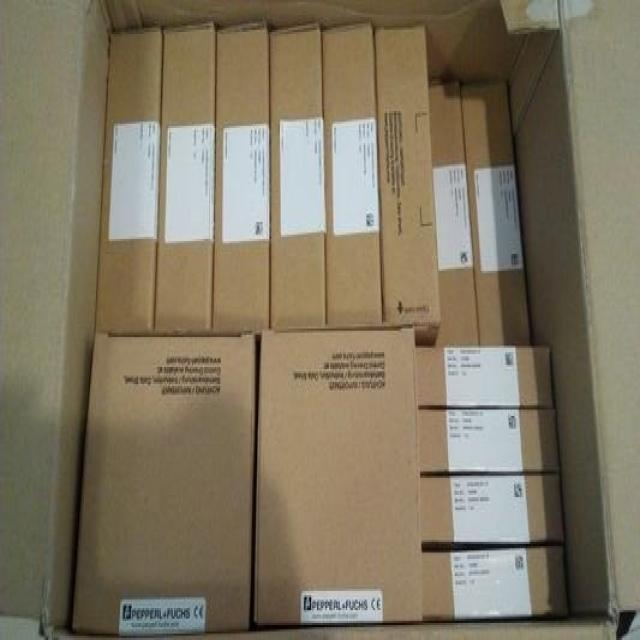box: (0, 0, 638, 638), (71, 330, 261, 633), (256, 326, 423, 622), (374, 23, 442, 348), (93, 32, 165, 332), (154, 20, 216, 333), (321, 23, 383, 328), (461, 79, 531, 346), (212, 21, 271, 332), (269, 23, 326, 329), (428, 77, 479, 346), (418, 542, 571, 615), (420, 472, 566, 545), (417, 405, 559, 475), (416, 345, 555, 408)
